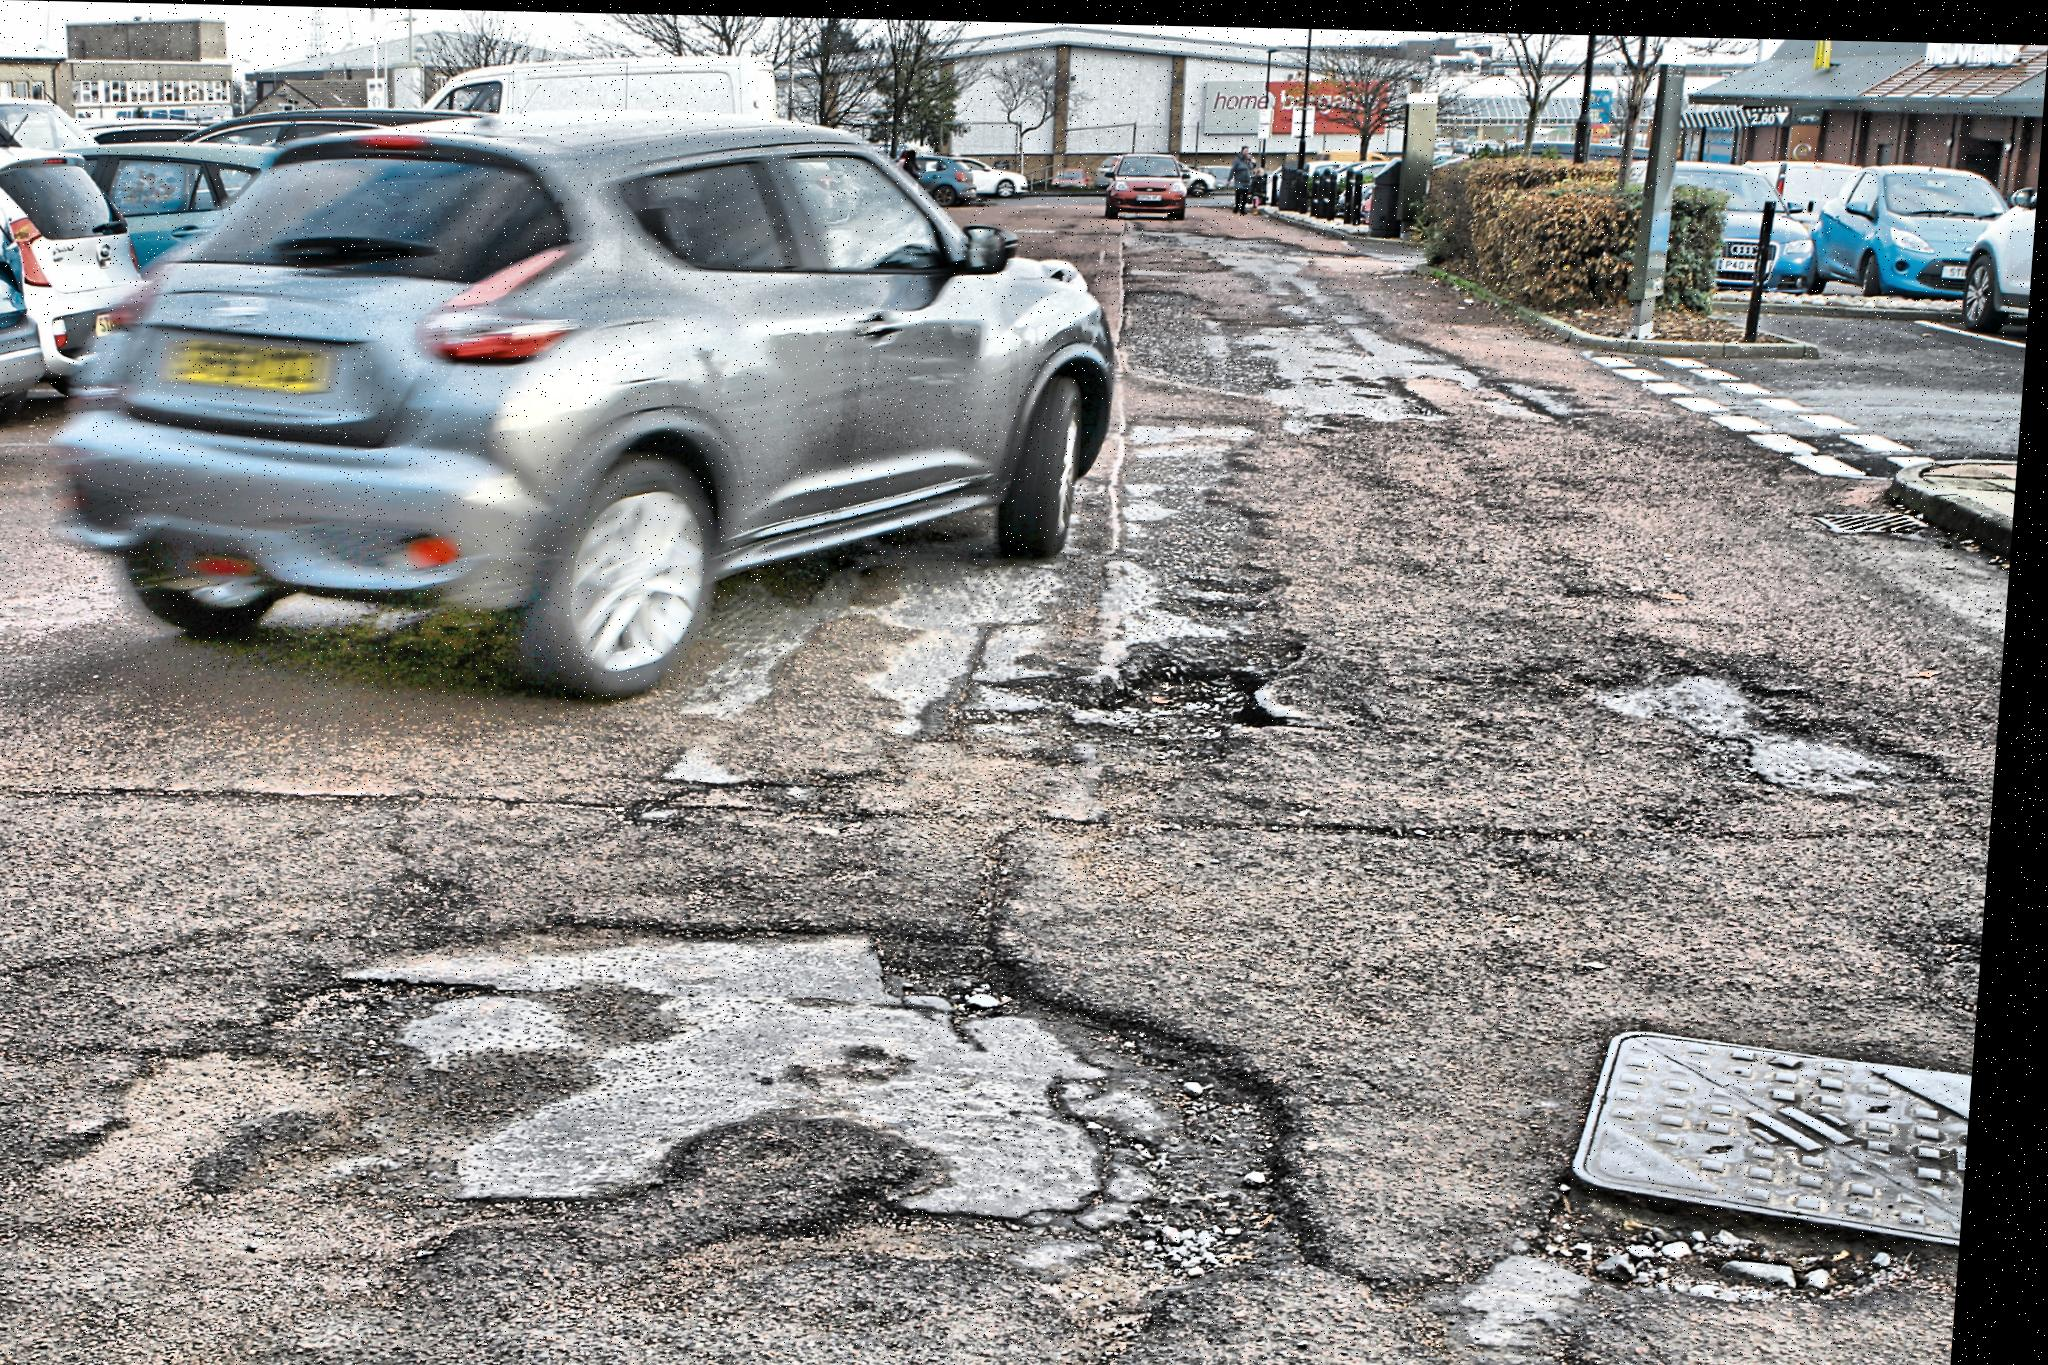pothole: (375, 923, 1413, 1303), (1602, 629, 1937, 821), (1288, 343, 1562, 440), (1110, 270, 1265, 401), (1090, 643, 1296, 733), (1110, 216, 1370, 267)
